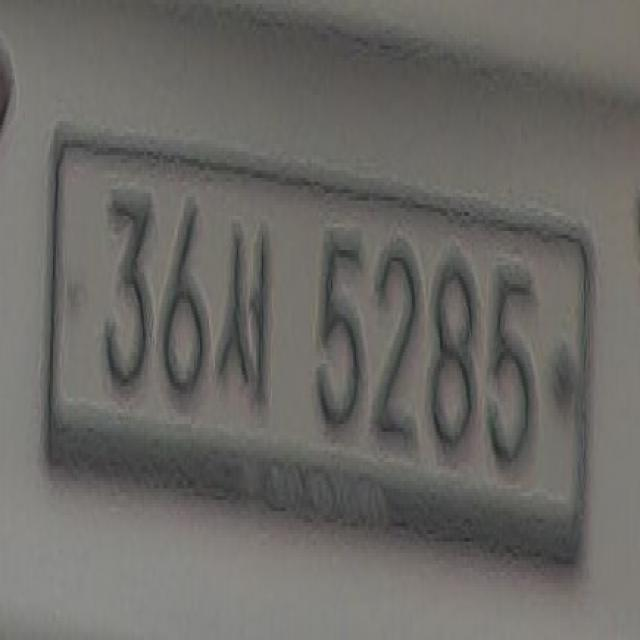2: (369, 235, 421, 454)
3: (103, 182, 154, 394)
5: (486, 258, 538, 477), (312, 231, 365, 439)
6: (157, 193, 210, 409)
8: (428, 246, 477, 466)
license_plate: (42, 125, 592, 564)
seo: (216, 212, 274, 409)
